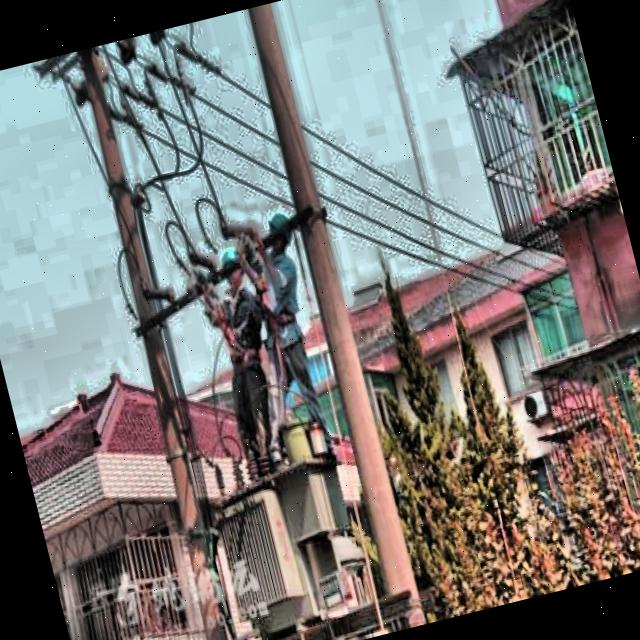helmet: (260, 208, 297, 256), (216, 244, 252, 292)
